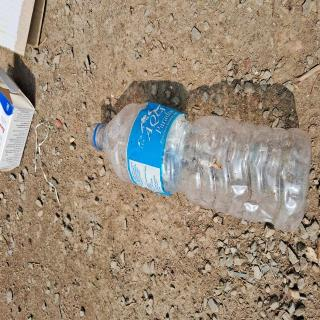Plastic-bottle: (87, 96, 317, 246)
